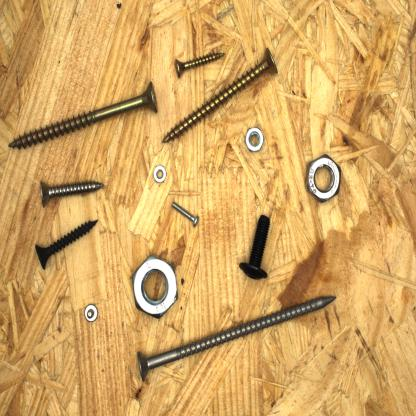screw: (136, 293, 338, 383), (161, 46, 281, 151), (4, 78, 161, 155), (30, 216, 100, 274), (236, 213, 273, 281), (38, 178, 106, 208), (173, 49, 227, 80), (170, 200, 202, 230), (84, 303, 99, 324)
